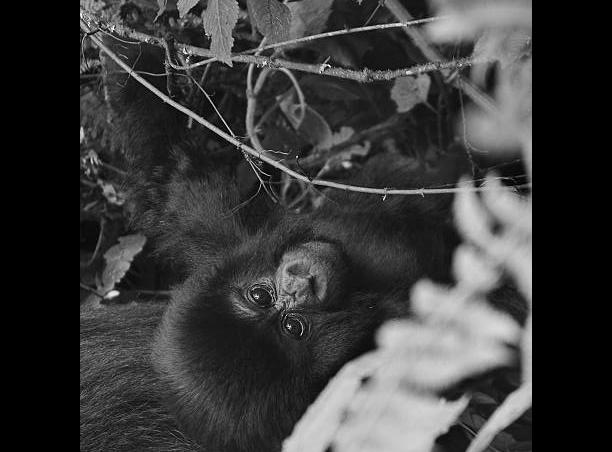goriile_montagne: (149, 96, 511, 439)
